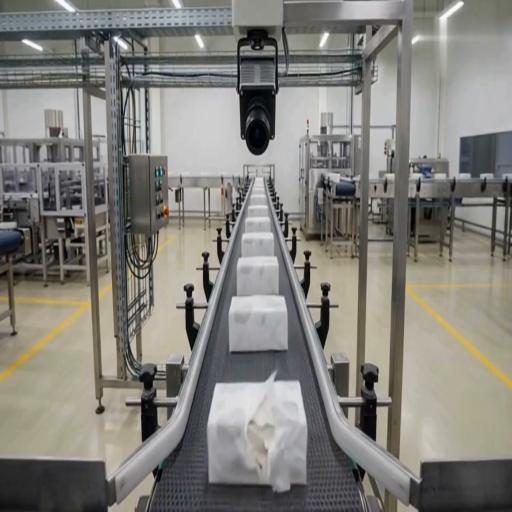defective: (206, 376, 309, 486)
good: (229, 294, 289, 353), (237, 256, 280, 296), (241, 232, 275, 257), (245, 216, 272, 232), (247, 205, 269, 216), (251, 194, 267, 205), (252, 187, 266, 196), (253, 182, 264, 188), (255, 177, 264, 182)
